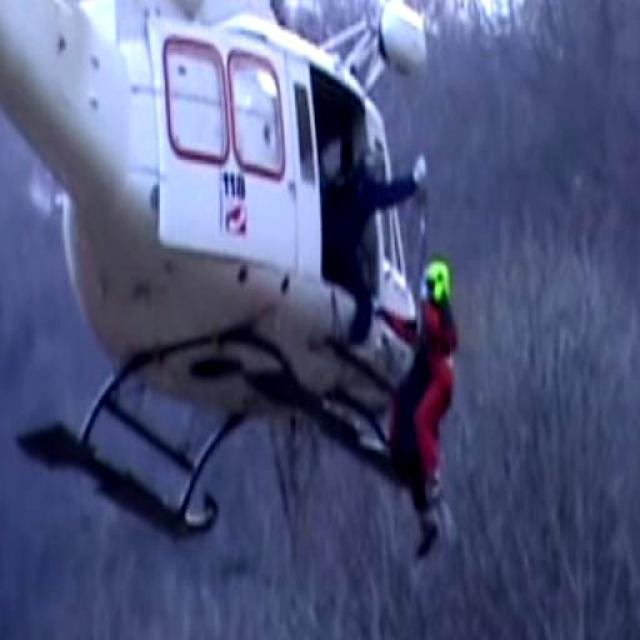drone: (0, 0, 421, 551)
